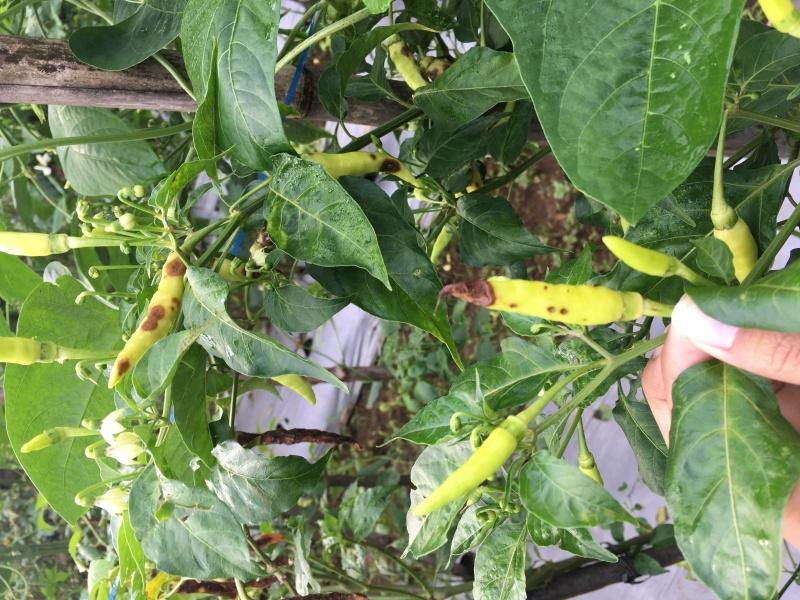antraknosa: (108, 254, 193, 394), (440, 277, 632, 327), (299, 150, 421, 192)
cabai_normal: (419, 416, 531, 516), (600, 234, 682, 279), (1, 231, 50, 260), (20, 430, 50, 454)
